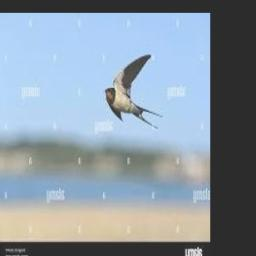Swallow: (106, 53, 162, 128)
